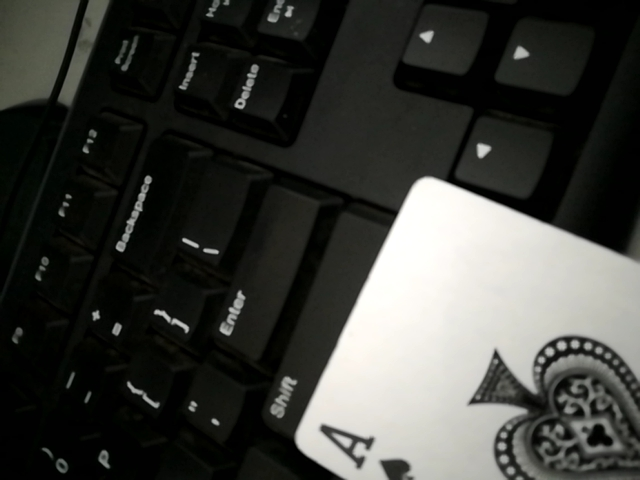ht a: (281, 172, 640, 479)
